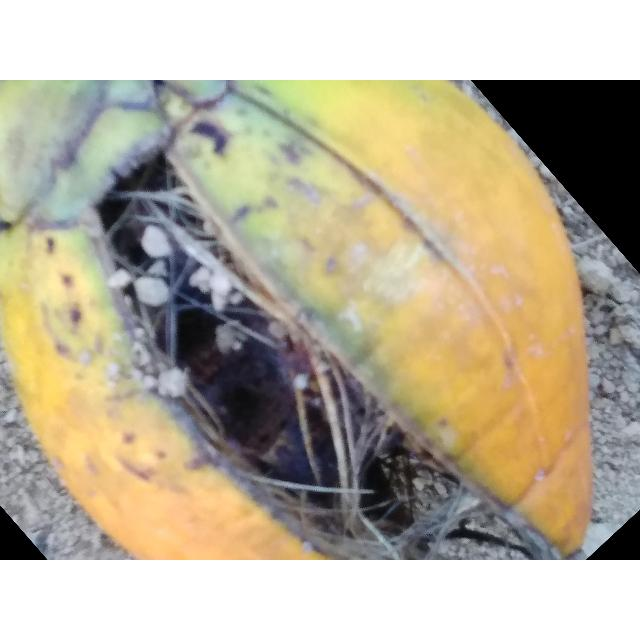damaged: (0, 80, 591, 560)
